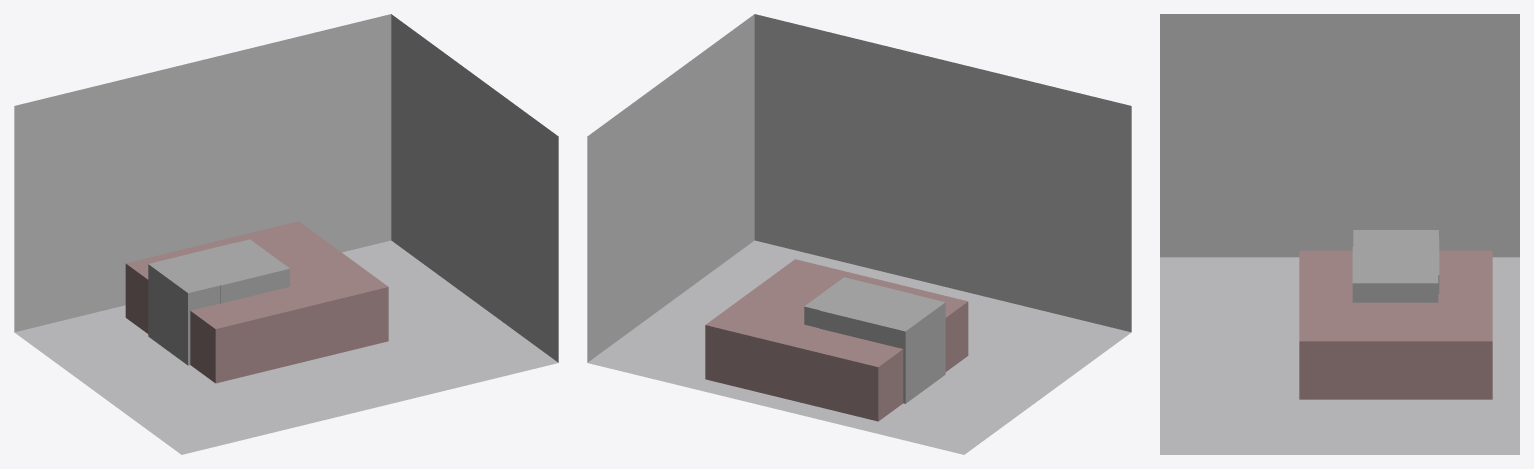
The model's file is optimised_layout.glb.
The picture shows the model from 3 angles, left to right: view 1: azimuth 30°, elevation 25°; view 2: azimuth 150°, elevation 25°; view 3: azimuth 270°, elevation 25°; orthographic projection. The views are drawn at different scales.
Parts seen in each view (by area): view 1: room, bed, studyTable, tableLamp, bookShelf; view 2: room, bed, studyTable, tableLamp, bookShelf; view 3: room, bed, tableLamp, studyTable, bookShelf.
Part boxes in pixels (bbox=[...]): room: bbox=[14, 14, 558, 454]; bed: bbox=[125, 221, 388, 383]; studyTable: bbox=[148, 247, 221, 365]; tableLamp: bbox=[181, 239, 289, 303]; bookShelf: bbox=[172, 243, 249, 288]; room: bbox=[587, 14, 1131, 454]; bed: bbox=[705, 259, 968, 421]; studyTable: bbox=[837, 290, 945, 403]; tableLamp: bbox=[804, 277, 912, 328]; bookShelf: bbox=[819, 294, 928, 345]; room: bbox=[1160, 14, 1519, 454]; bed: bbox=[1299, 250, 1492, 399]; tableLamp: bbox=[1352, 247, 1438, 302]; studyTable: bbox=[1353, 230, 1438, 260]; bookShelf: bbox=[1353, 239, 1439, 294].
Size of the model in its own units: 4.36 by 2.5 by 3.35.
